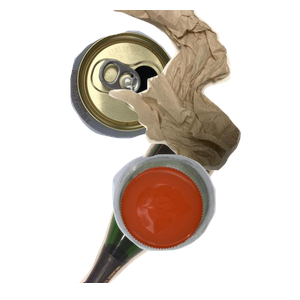glass: (66, 120, 279, 300)
metal: (68, 28, 237, 159)
plastic: (110, 152, 300, 300)
trash: (103, 10, 300, 173)
